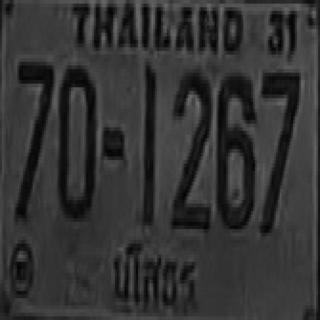N00: (57, 62, 95, 218)
N01: (142, 64, 155, 224)
N02: (171, 67, 211, 227)
N06: (215, 69, 253, 225)
N07: (260, 69, 300, 233), (14, 58, 53, 218)
P77: (109, 234, 200, 316)
